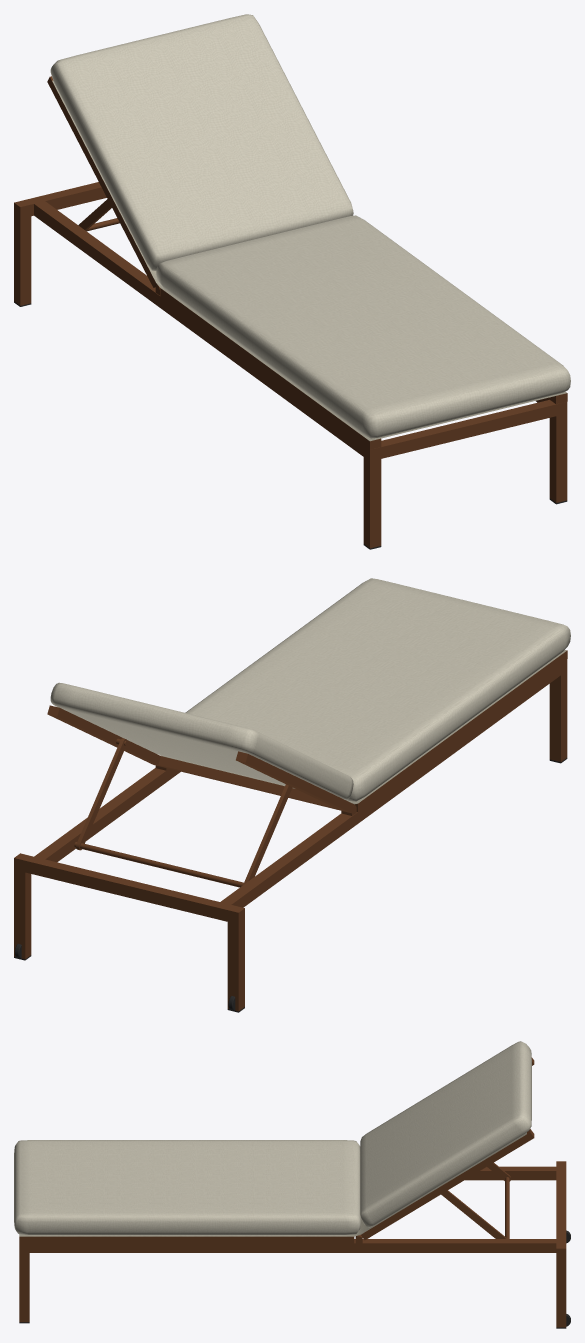
File: obj_kettal_stackable_deckchair_f25cb7.glb
3 views of the same model, one above another, from view 1: azimuth 30°, elevation 25°; view 2: azimuth 150°, elevation 25°; view 3: azimuth 270°, elevation 25° (orthographic). The views are drawn at different scales.
Visible parts, largest first — view 1: obj_kettal_stackable_deckchair_f25cb7; view 2: obj_kettal_stackable_deckchair_f25cb7; view 3: obj_kettal_stackable_deckchair_f25cb7.
Part boxes in pixels (<box>): obj_kettal_stackable_deckchair_f25cb7: <box>14,14,570,549</box>; obj_kettal_stackable_deckchair_f25cb7: <box>14,578,570,1012</box>; obj_kettal_stackable_deckchair_f25cb7: <box>14,1041,570,1328</box>.
Size of the model in its own units: 0.6328 by 0.6951 by 1.7.
2 materials, 2 textured.
